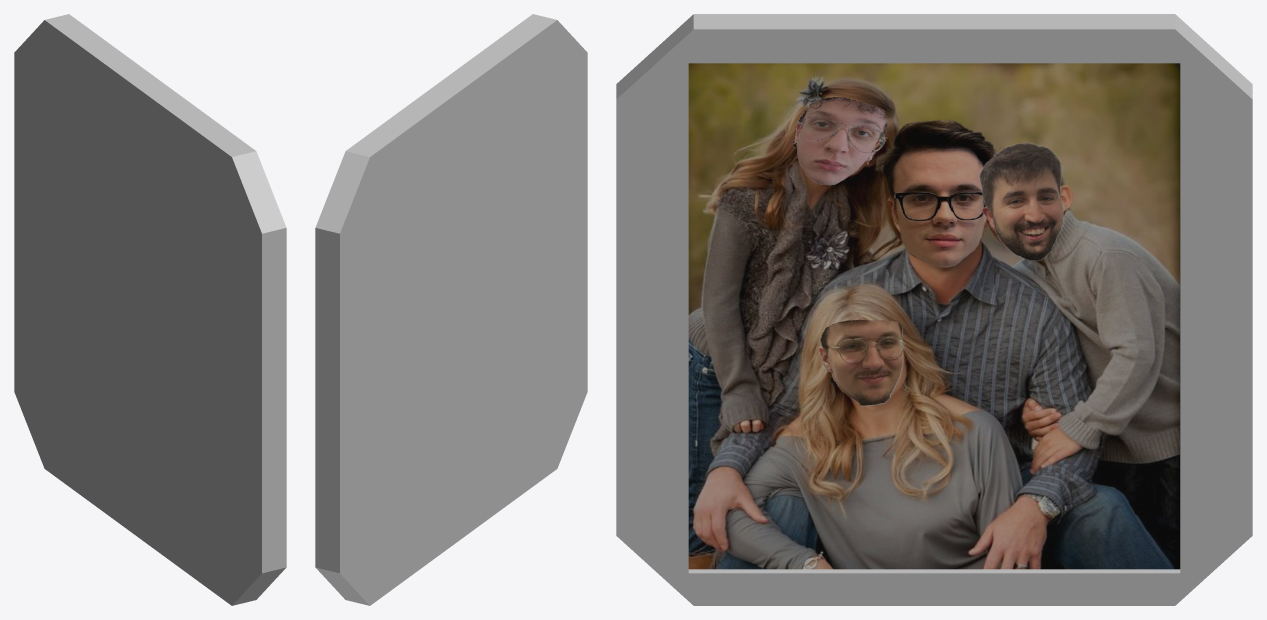
The model's file is EasterSex.fbx.
The picture shows the model from 3 angles, left to right: view 1: azimuth 30°, elevation 25°; view 2: azimuth 150°, elevation 25°; view 3: azimuth 270°, elevation 25°; orthographic projection. The views are drawn at different scales.
Parts seen in each view (by area): view 1: Cube; view 2: Cube; view 3: Cube.001, Cube.
Part boxes in pixels (x1,y1,x2,y2): Cube: [14, 14, 286, 605]; Cube: [315, 14, 587, 605]; Cube.001: [688, 63, 1180, 569]; Cube: [616, 14, 1252, 605].
Bounding box in the file's own units: 32.33 × 566 × 566.
